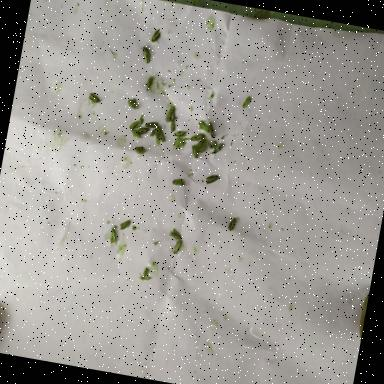pbw: (152, 125, 168, 145), (85, 92, 104, 106), (189, 144, 203, 162), (195, 118, 210, 134), (204, 172, 220, 187), (108, 226, 120, 246), (170, 238, 182, 256), (173, 128, 188, 142), (226, 214, 237, 233), (205, 121, 216, 139), (128, 118, 142, 132), (150, 28, 162, 44), (144, 118, 159, 130), (196, 136, 207, 152), (168, 228, 182, 240), (242, 94, 252, 110), (190, 132, 204, 143), (126, 99, 138, 111), (172, 178, 186, 188), (146, 76, 154, 92), (136, 127, 150, 136), (134, 145, 146, 154), (130, 130, 140, 140), (168, 121, 176, 133), (170, 110, 176, 122), (211, 140, 218, 150), (140, 276, 150, 282)
